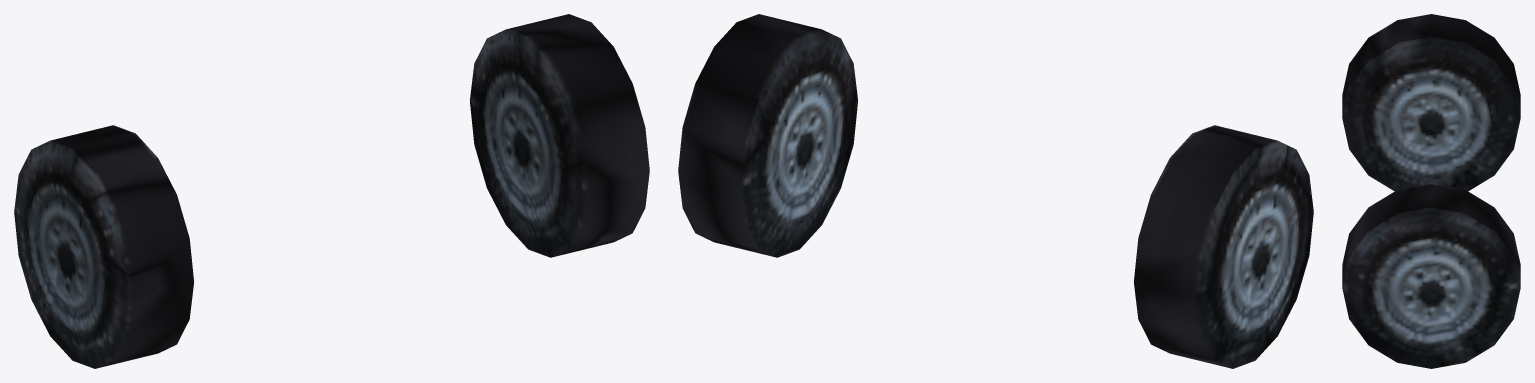
The model's file is ford_transit_wheels_f.obj.
3 views of the same model, side by side, from view 1: azimuth 30°, elevation 25°; view 2: azimuth 150°, elevation 25°; view 3: azimuth 270°, elevation 25° (orthographic). The views are drawn at different scales.
Parts seen in each view (by area): view 1: ford_transit_wheels_f; view 2: ford_transit_wheels_f; view 3: ford_transit_wheels_f.
Boxes of the visible parts, x1=… form: ford_transit_wheels_f: x1=14, y1=14, x2=649, y2=368; ford_transit_wheels_f: x1=678, y1=14, x2=1313, y2=368; ford_transit_wheels_f: x1=1342, y1=14, x2=1520, y2=368.
Size of the model in its own units: 1.7 by 0.6473 by 0.6473.
1 material, 1 textured.
